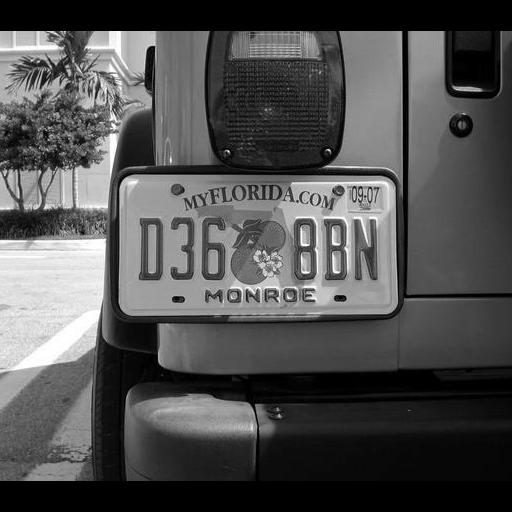placa: (118, 173, 403, 320)
